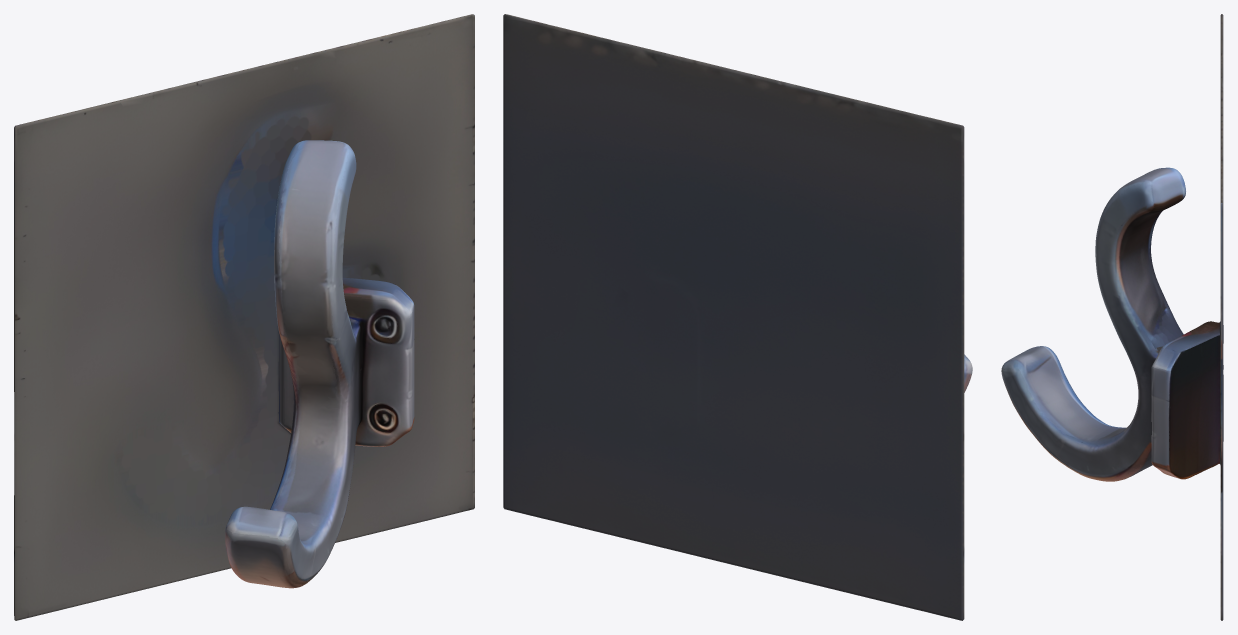
Rendered from CoatHook.glb.
3 renders of one model, left to right at view 1: azimuth 30°, elevation 25°; view 2: azimuth 150°, elevation 25°; view 3: azimuth 270°, elevation 25°, orthographic. The views are drawn at different scales.
Visible parts, largest first — view 1: CoatHook; view 2: CoatHook; view 3: CoatHook.
Boxes of the visible parts, x1,y1,x2,y2 form: CoatHook: (14,14,474,620); CoatHook: (503,14,972,620); CoatHook: (1001,14,1223,620).
Bounding box in the file's own units: 1.94 × 1.99 × 0.9599.
1 material, 1 textured.
